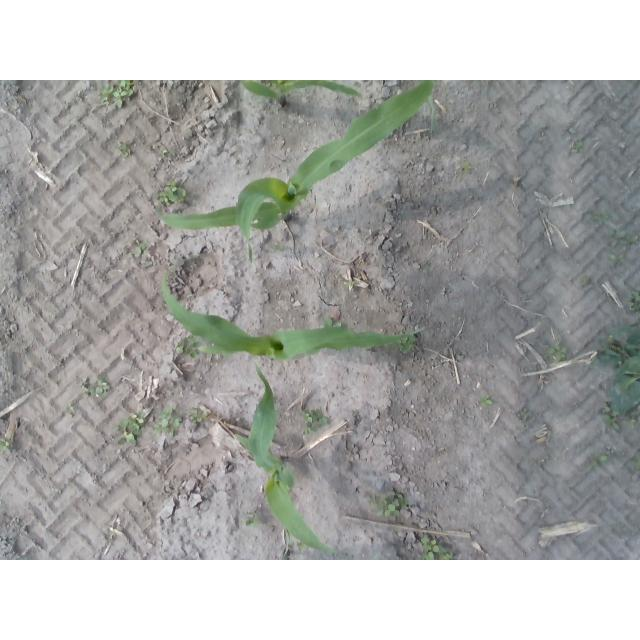Maize: (155, 80, 435, 260), (234, 364, 378, 561), (162, 257, 425, 363), (238, 80, 435, 133)
Weeds: (595, 320, 640, 431), (113, 412, 147, 446), (99, 80, 133, 108), (370, 492, 407, 517), (153, 407, 179, 438), (420, 536, 453, 560), (157, 181, 187, 207), (300, 409, 328, 435), (80, 375, 110, 398), (175, 333, 201, 359), (608, 227, 639, 246), (546, 342, 568, 362), (396, 330, 416, 352), (625, 290, 640, 314), (126, 242, 146, 259), (246, 510, 263, 528), (590, 455, 609, 470), (590, 210, 611, 223), (189, 407, 205, 424), (323, 318, 342, 329), (64, 402, 76, 418), (632, 450, 640, 472), (480, 395, 493, 408), (520, 408, 533, 421), (118, 143, 130, 157), (571, 140, 584, 152), (297, 540, 309, 552), (343, 278, 356, 287), (462, 163, 472, 174), (0, 438, 8, 451), (608, 253, 624, 259), (530, 459, 538, 466), (162, 150, 169, 157), (425, 261, 431, 269), (276, 246, 285, 251)
